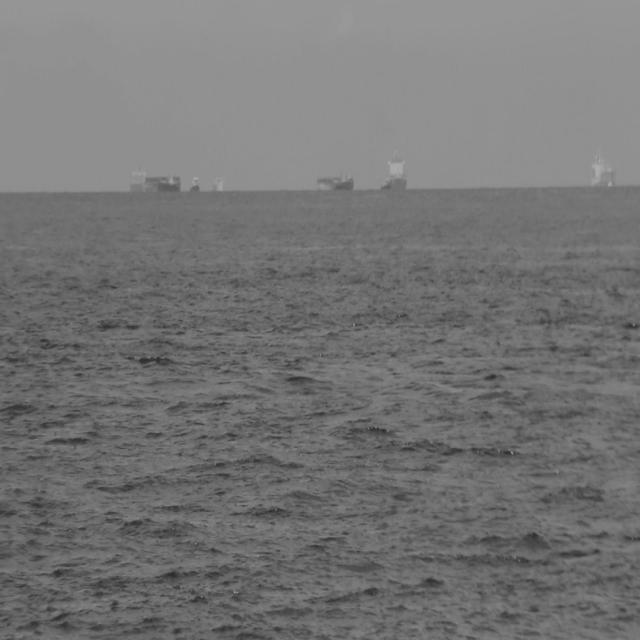ship: (129, 163, 182, 194), (378, 146, 408, 193), (589, 146, 616, 190), (315, 174, 355, 193), (188, 173, 202, 194)
